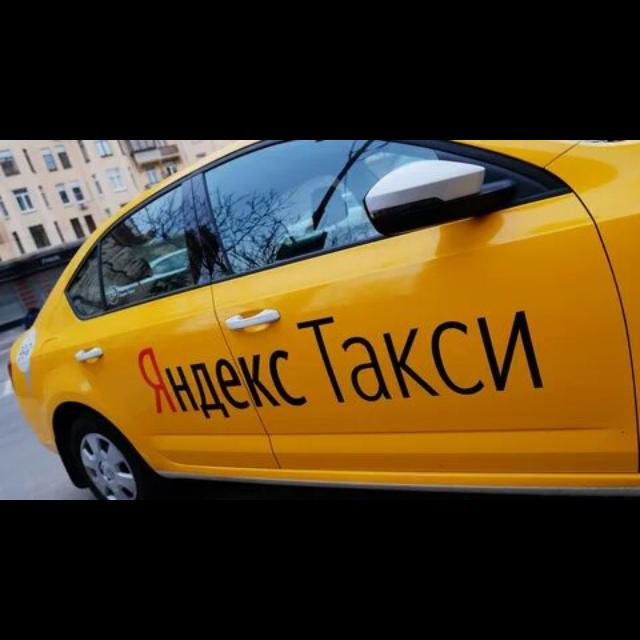taxi: (6, 142, 638, 499)
